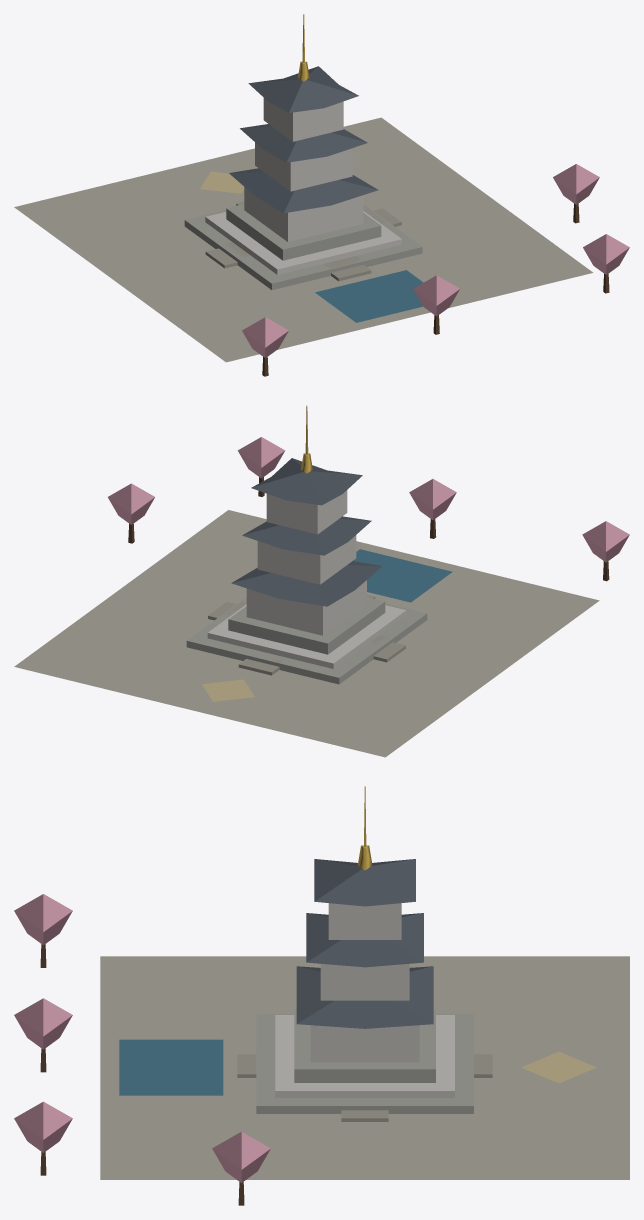
The model's file is mobile-low.glb.
3 renders of one model, top to bottom at view 1: azimuth 30°, elevation 25°; view 2: azimuth 150°, elevation 25°; view 3: azimuth 270°, elevation 25°, orthographic. The views are drawn at different scales.
Parts seen in each view (by area): view 1: lm.peace-pagoda; view 2: lm.peace-pagoda; view 3: lm.peace-pagoda.
Part boxes in pixels (<box>): lm.peace-pagoda: <box>14,14,629,376</box>; lm.peace-pagoda: <box>14,405,629,757</box>; lm.peace-pagoda: <box>14,786,629,1205</box>.
Size of the model in its own units: 65.6 by 34.9 by 65.12.
